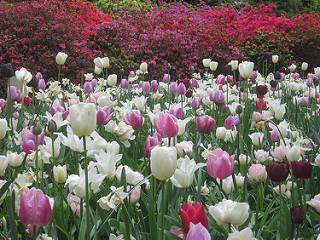tulip: (19, 187, 53, 225), (208, 200, 250, 227), (69, 103, 96, 137), (151, 147, 178, 181), (179, 203, 208, 230), (209, 148, 234, 178), (154, 112, 178, 136), (197, 115, 215, 134), (53, 165, 66, 182)
